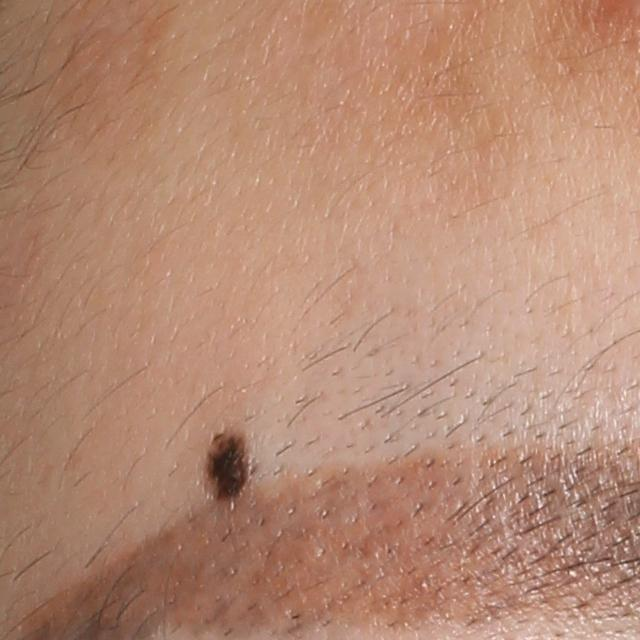nevus: (193, 429, 255, 503)
